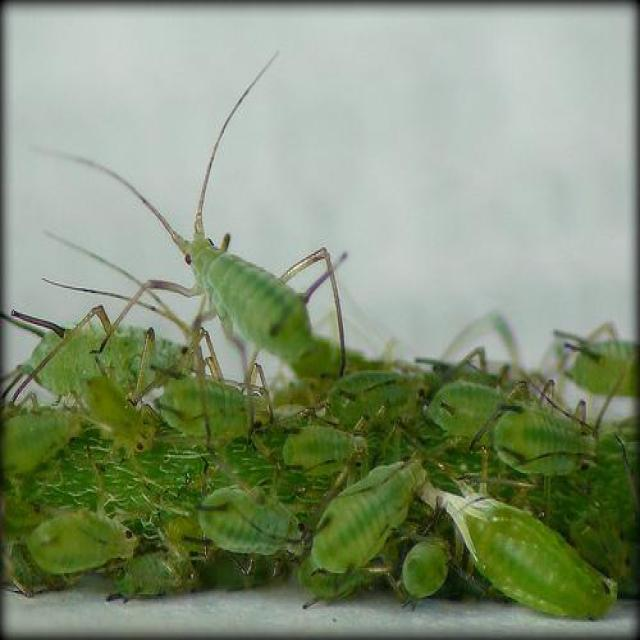Aphids: (85, 139, 368, 409), (308, 422, 442, 604), (460, 382, 624, 502), (154, 362, 296, 458), (181, 467, 317, 567), (30, 479, 152, 589)
